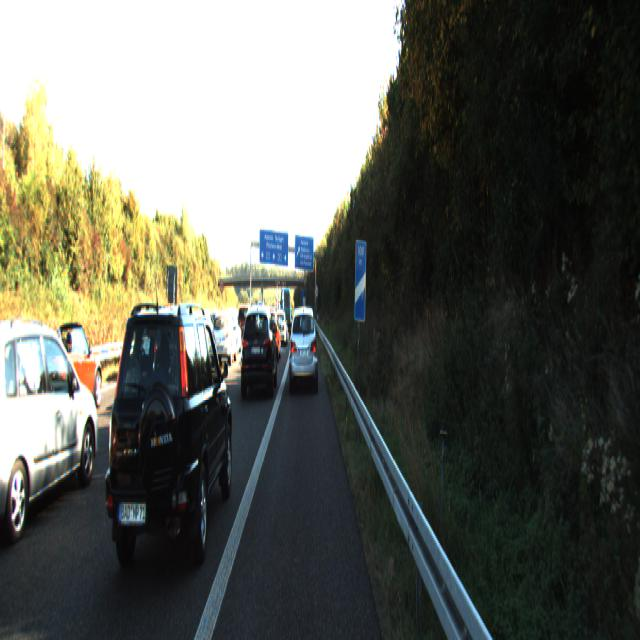Car: (99, 303, 234, 594), (0, 315, 101, 556), (28, 319, 104, 426), (149, 302, 203, 408), (240, 303, 278, 400), (132, 312, 173, 379), (289, 304, 318, 392), (210, 310, 237, 366), (260, 310, 281, 364), (272, 310, 288, 345)
